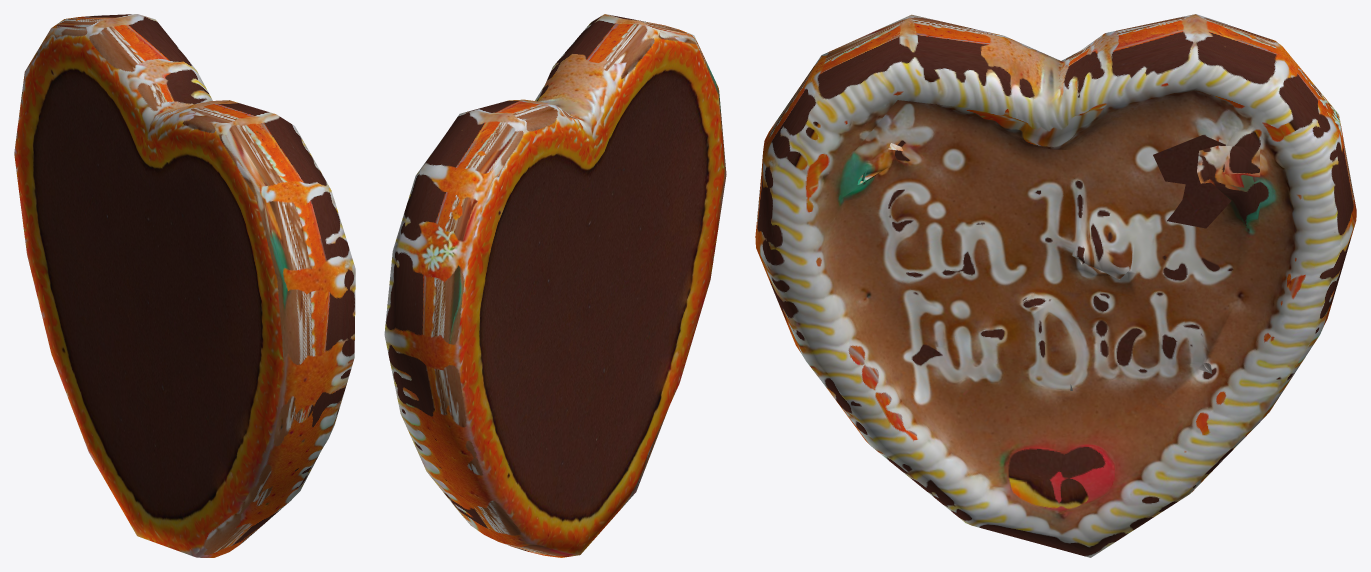
3 views of the same model, side by side, from view 1: azimuth 30°, elevation 25°; view 2: azimuth 150°, elevation 25°; view 3: azimuth 270°, elevation 25° (orthographic). The views are drawn at different scales.
Visible parts, largest first — view 1: RETOPO; view 2: RETOPO; view 3: RETOPO.
Boxes of the visible parts, box(x1,y1,x2,y2) form: RETOPO: box(14, 14, 355, 557); RETOPO: box(384, 14, 726, 557); RETOPO: box(755, 14, 1356, 557).
Size of the model in its own units: 14.95 by 73.99 by 77.36.
Materials: 1 (1 with a texture image).
